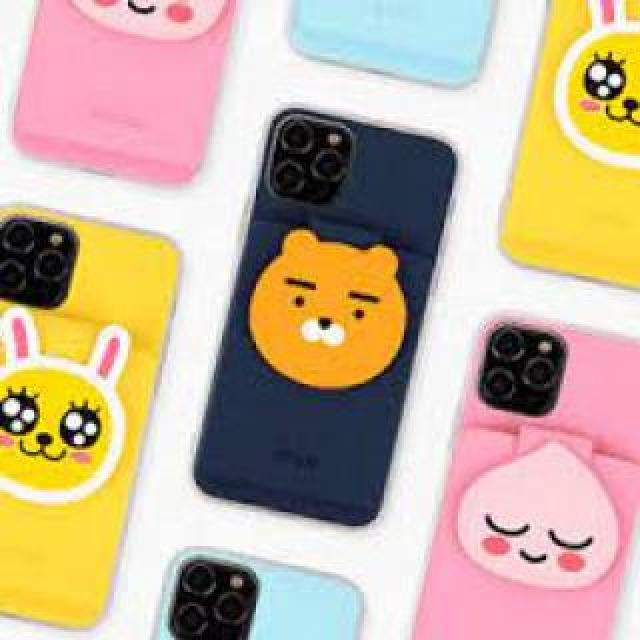smart phone: (248, 75, 462, 540), (0, 180, 167, 633), (458, 290, 640, 640)
